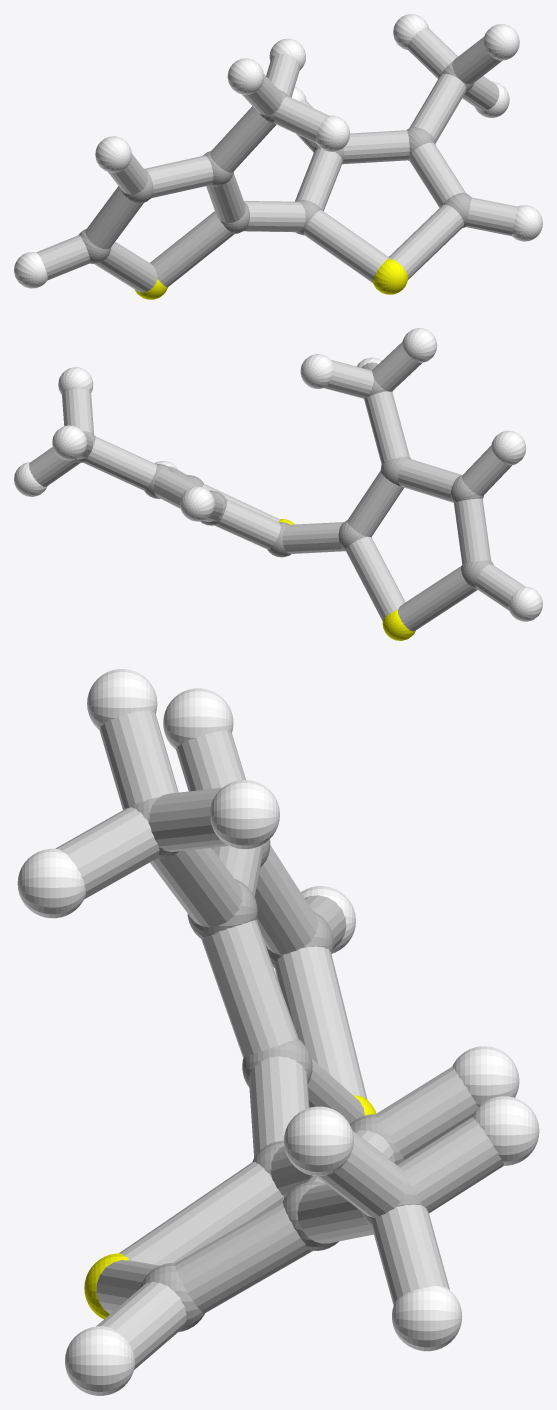
Rendered from Methylthiophene_Phi_25_Theta_100_Methylthiophene.glb.
3 renders of one model, top to bottom at view 1: azimuth 30°, elevation 25°; view 2: azimuth 150°, elevation 25°; view 3: azimuth 270°, elevation 25°, orthographic. The views are drawn at different scales.
Parts seen in each view (by area): view 1: grp7965, grp3621, grp1, grp7241; view 2: grp7965, grp3621, grp1, grp7241; view 3: grp7965, grp3621, grp1, grp7241.
Boxes of the visible parts, x1,y1,x2,y2 form: grp7965: (36,27,517,292); grp3621: (14,14,542,288); grp1: (78,61,473,263); grp7241: (134,258,407,299); grp7965: (29,342,524,631); grp3621: (14,328,542,621); grp1: (74,369,493,589); grp7241: (278,519,415,640); grp7965: (55,710,503,1369); grp3621: (17,669,539,1395); grp1: (131,797,423,1331); grp7241: (84,1095,376,1319).
Bounding box in the file's own units: 9.8 × 4.9 × 4.45.
